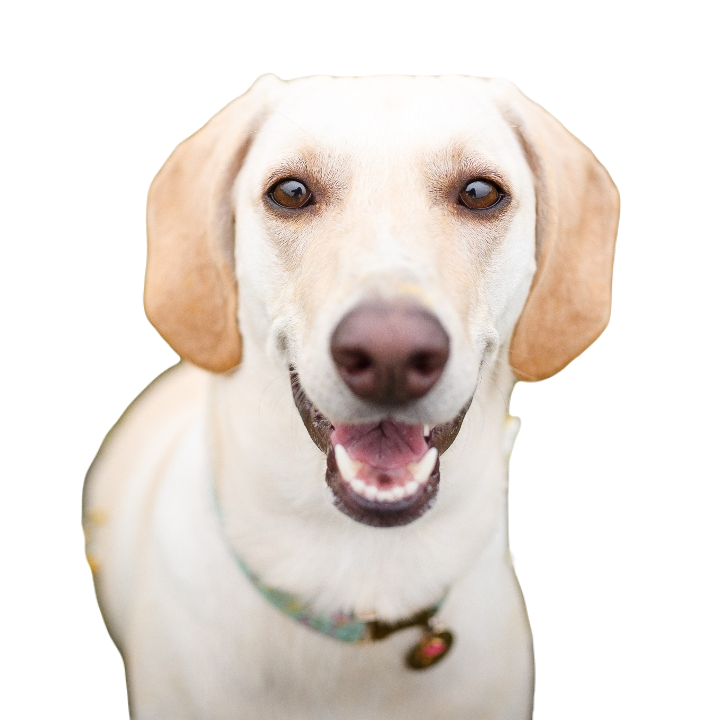Dog: (76, 74, 622, 719)
